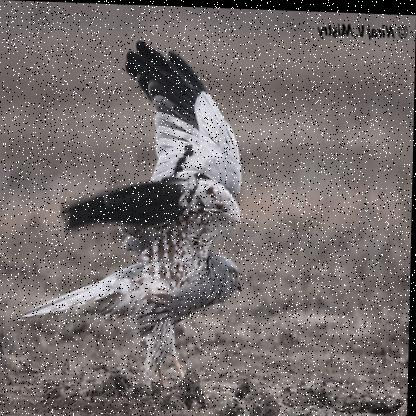Burung: (15, 29, 248, 395)
